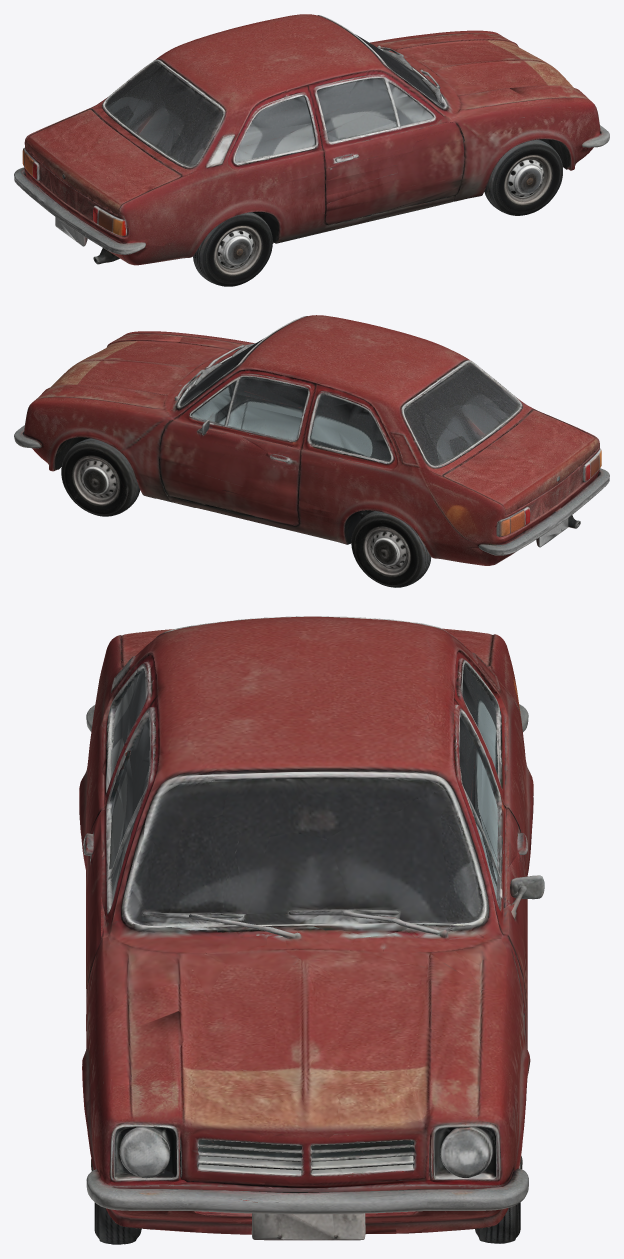
File: seda-compacto-80-abandonado__01a16c1c.glb
The picture shows the model from 3 angles, top to bottom: view 1: azimuth 30°, elevation 25°; view 2: azimuth 150°, elevation 25°; view 3: azimuth 270°, elevation 25°; orthographic projection. The views are drawn at different scales.
Parts seen in each view (by area): view 1: seda-compacto-80-abandonado; view 2: seda-compacto-80-abandonado; view 3: seda-compacto-80-abandonado.
Part boxes in pixels (x1,y1,x2,y2): seda-compacto-80-abandonado: (14,14,609,286); seda-compacto-80-abandonado: (14,315,609,587); seda-compacto-80-abandonado: (79,616,544,1244).
Bounding box in the file's own units: 4.2 × 1.42 × 1.67.
Materials: 1 (1 with a texture image).
